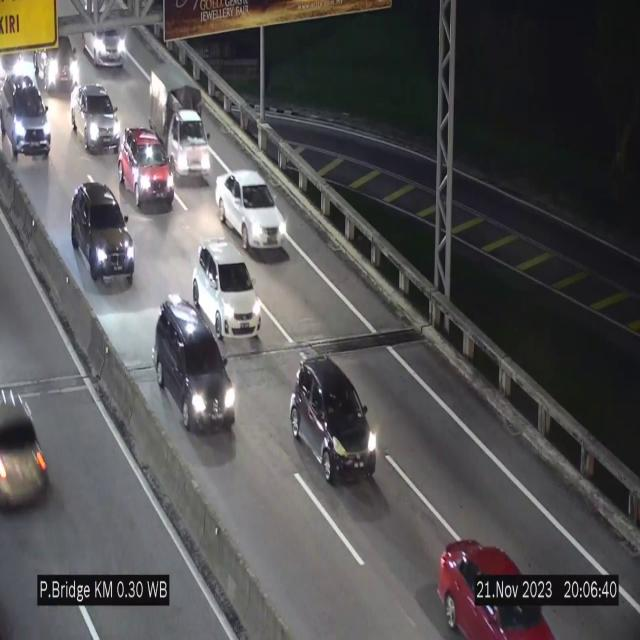Car: (428, 520, 555, 640), (155, 288, 239, 449), (290, 355, 376, 484), (0, 371, 60, 521), (72, 177, 140, 295), (192, 242, 262, 341), (215, 170, 289, 250), (117, 121, 177, 215), (1, 72, 54, 164), (26, 24, 86, 90), (72, 83, 126, 144), (83, 28, 126, 66)
Truck: (148, 62, 210, 178)
